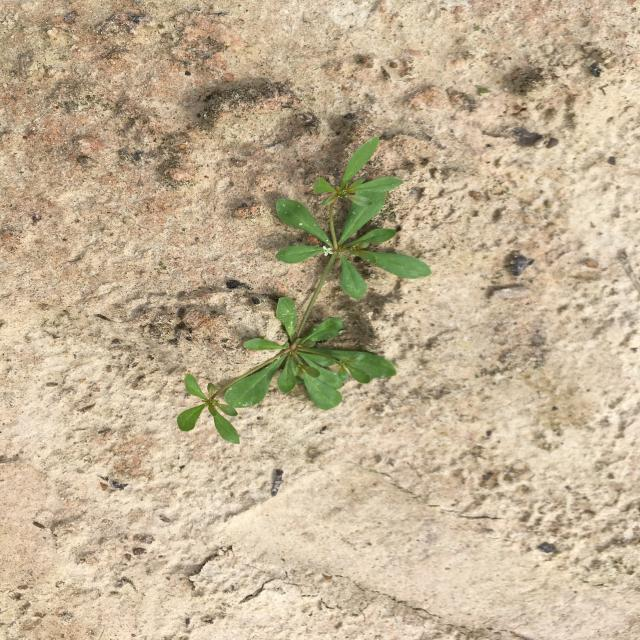Carpetweed: (177, 136, 433, 444)
